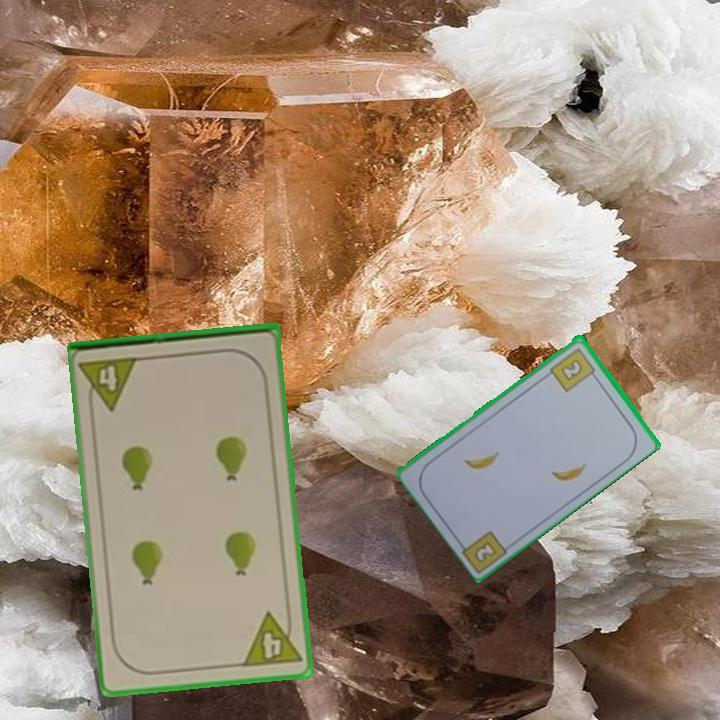2b: (546, 344, 600, 394), (471, 538, 499, 565)
4p: (239, 607, 304, 670), (77, 353, 142, 415)
